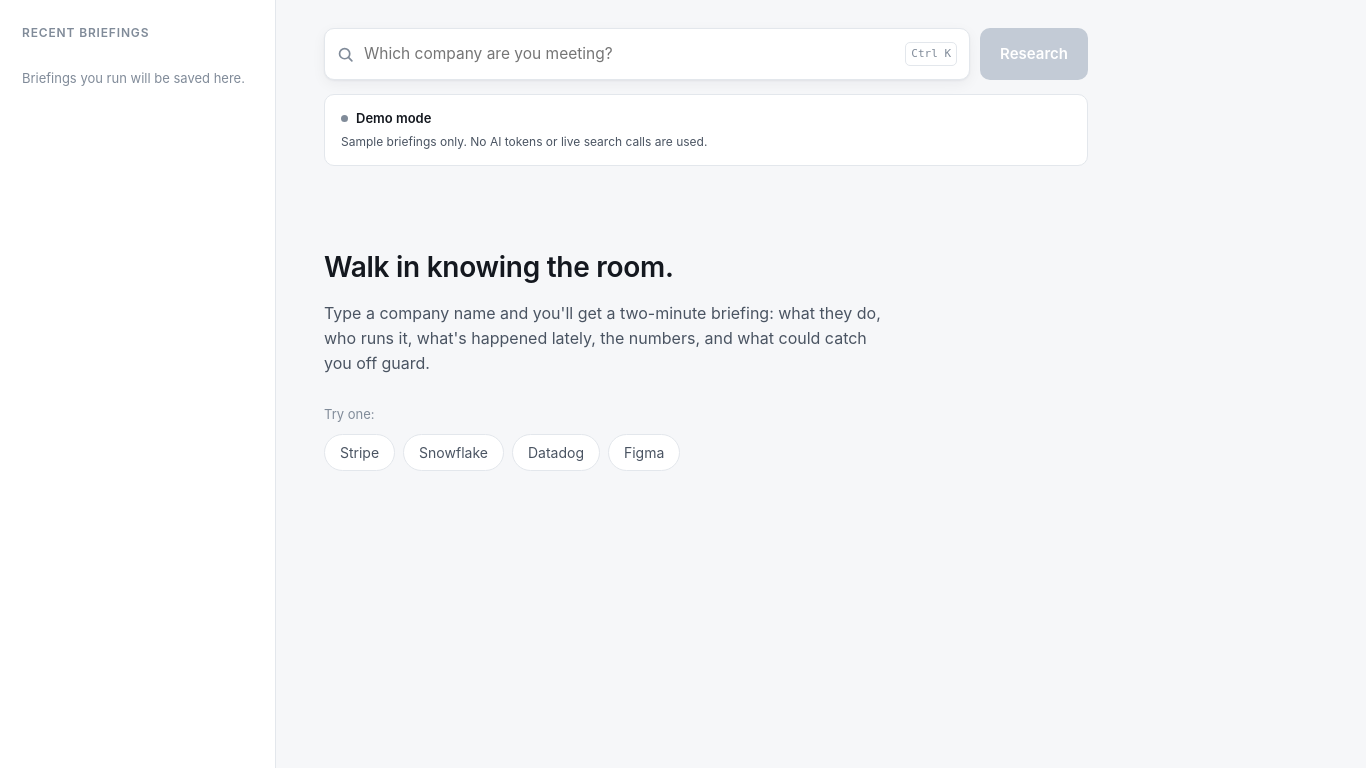
Test: things going wrong › explains an unresearchable company gently and saves nothing
The width and height of the screenshot is (1366, 768).
Type "asdkjhasd" into the field named "company name" at (630, 54), box [354, 29, 905, 79]
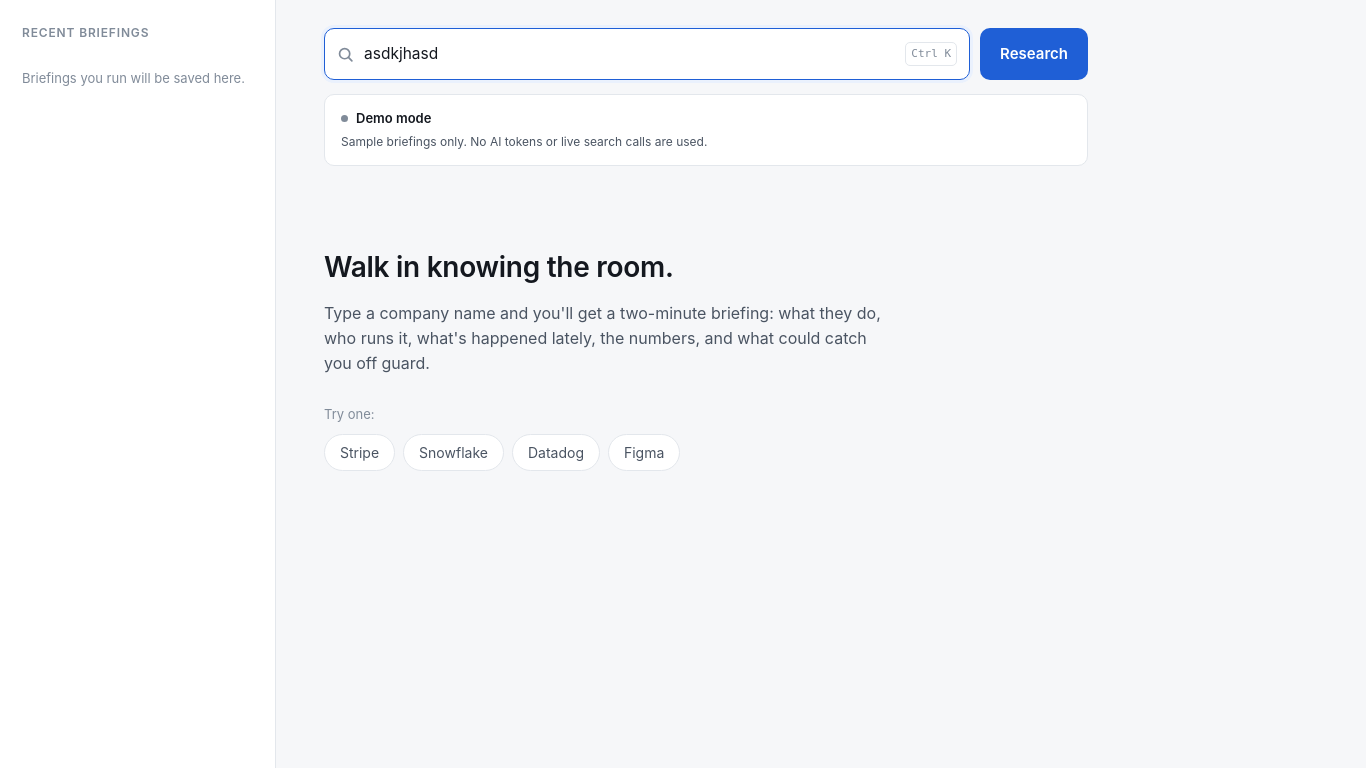
Click the button "Research" at (1034, 54), box [980, 28, 1088, 80]
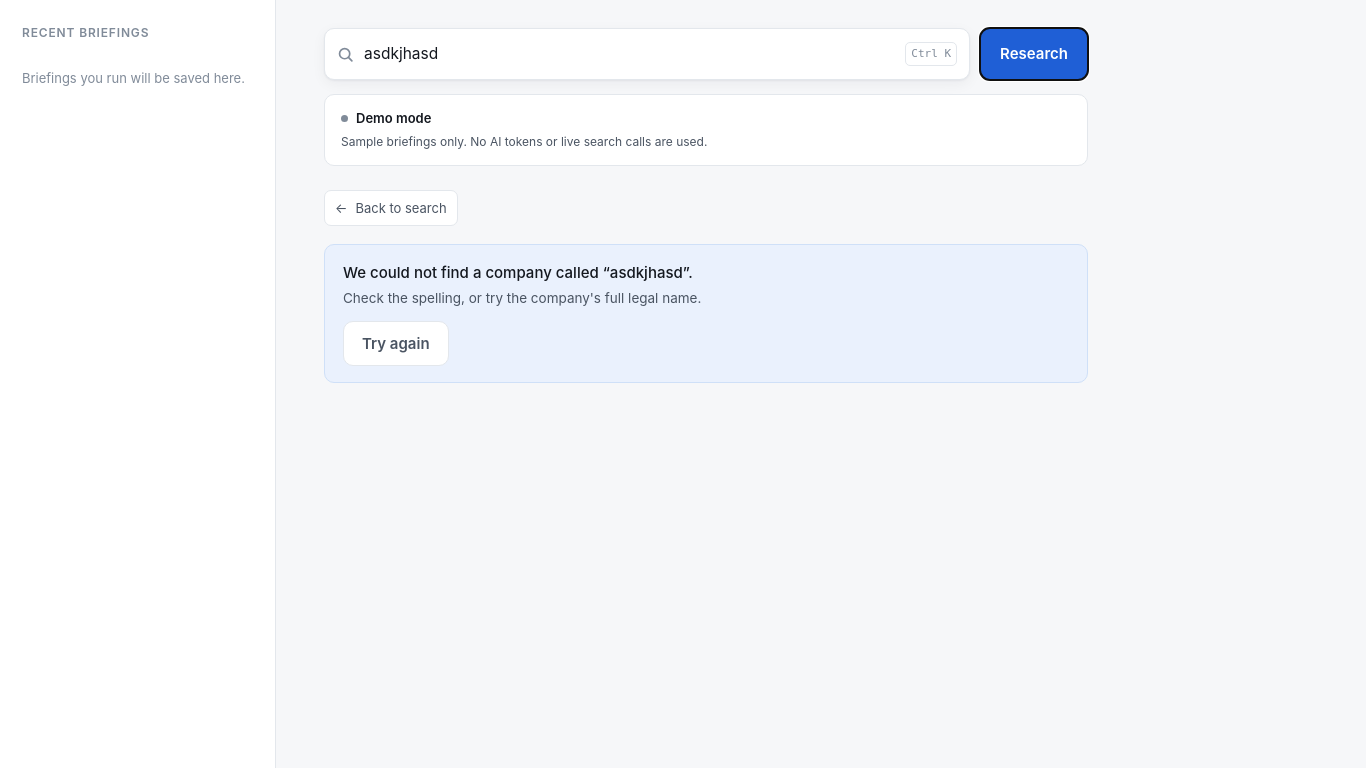
expect the 2nd message shows "could not find a company": met, box [343, 263, 693, 282]
expect the text "Check the spelling, or try the company's full legal name." is shown: met, box [343, 290, 701, 306]
expect the heading "Walk in knowing the room." is gone: met
